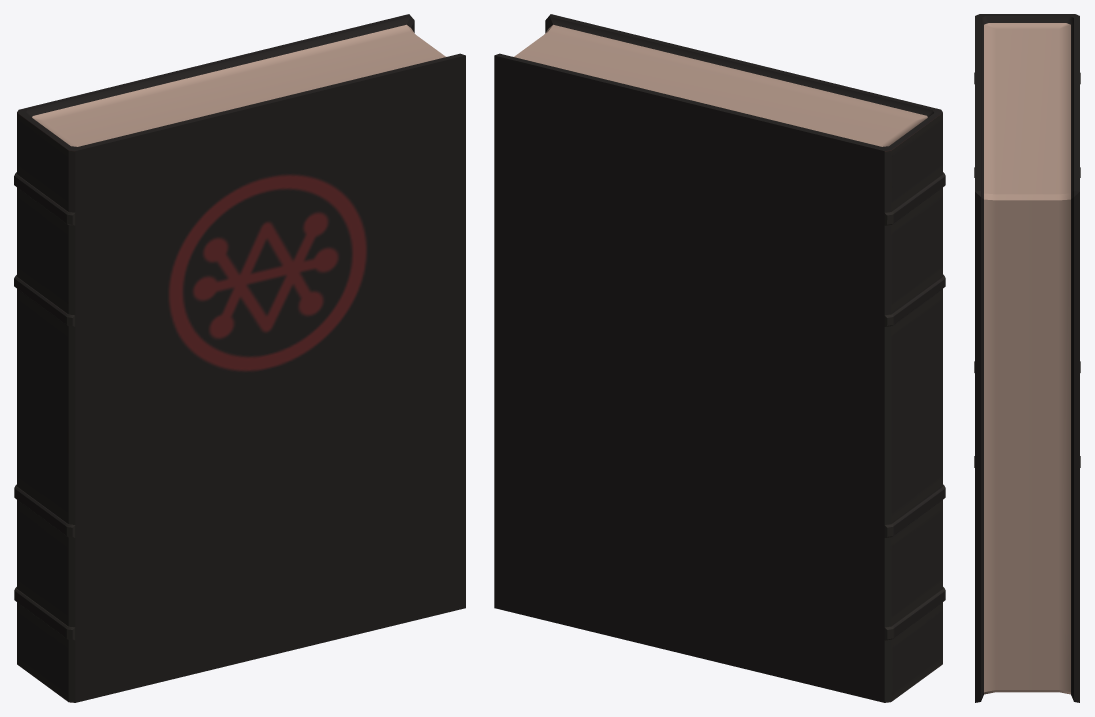
File: ritualbook.fbx
3 views of the same model, side by side, from view 1: azimuth 30°, elevation 25°; view 2: azimuth 150°, elevation 25°; view 3: azimuth 270°, elevation 25° (orthographic). The views are drawn at different scales.
Visible parts, largest first — view 1: pCube1; view 2: pCube1; view 3: pCube1.
Boxes of the visible parts, x1=… form: pCube1: x1=14, y1=14, x2=465, y2=702; pCube1: x1=494, y1=14, x2=945, y2=702; pCube1: x1=974, y1=14, x2=1080, y2=702.
Size of the model in its own units: 0.9637 by 1.28 by 0.2402.
